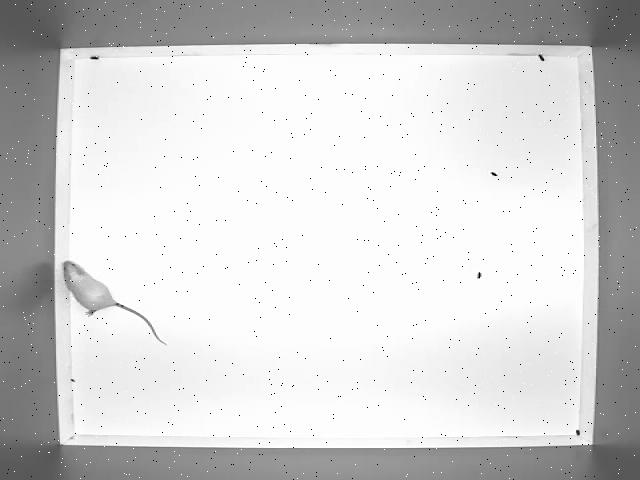Tikus: (59, 257, 168, 347)
